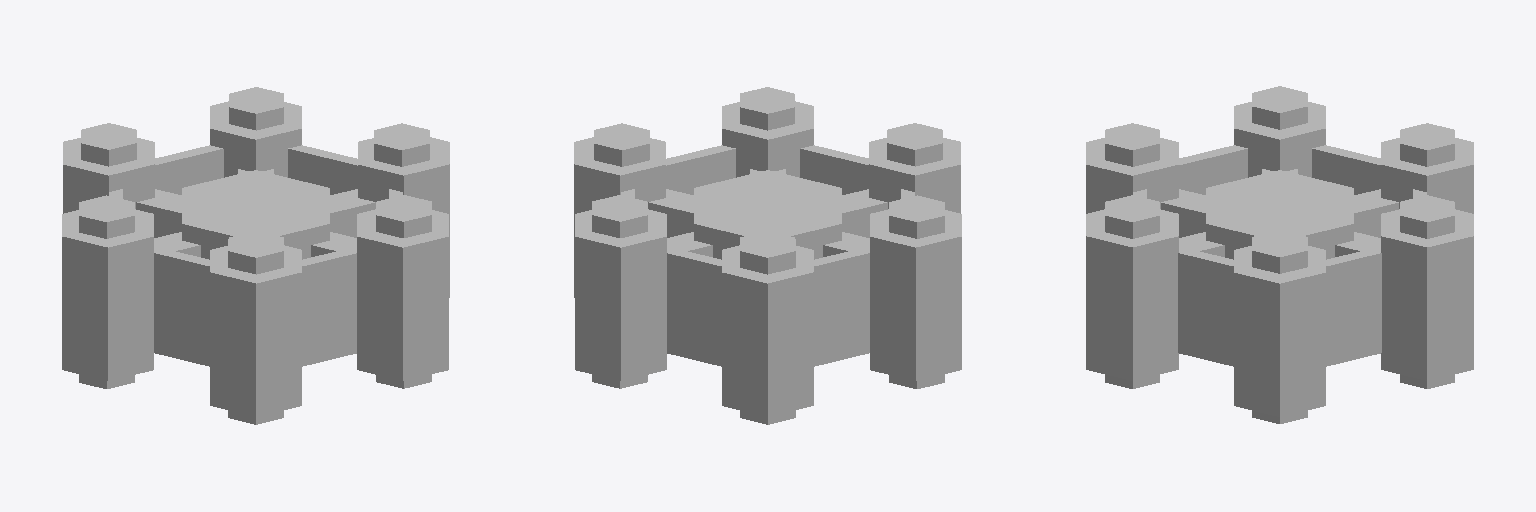
Rendered from centrifuge_rotor.obj.
The picture shows the model from 3 angles: view 1: azimuth 30°, elevation 25°; view 2: azimuth 150°, elevation 25°; view 3: azimuth 270°, elevation 25°; orthographic projection.
Visible parts, largest first — view 1: centrifuge_rotor; view 2: centrifuge_rotor; view 3: centrifuge_rotor.
Part boxes in pixels (x1,y1,x2,y2): centrifuge_rotor: (62,87,449,424); centrifuge_rotor: (574,87,961,424); centrifuge_rotor: (1086,86,1473,423).
Size of the model in its own units: 1.52 by 0.625 by 1.31.